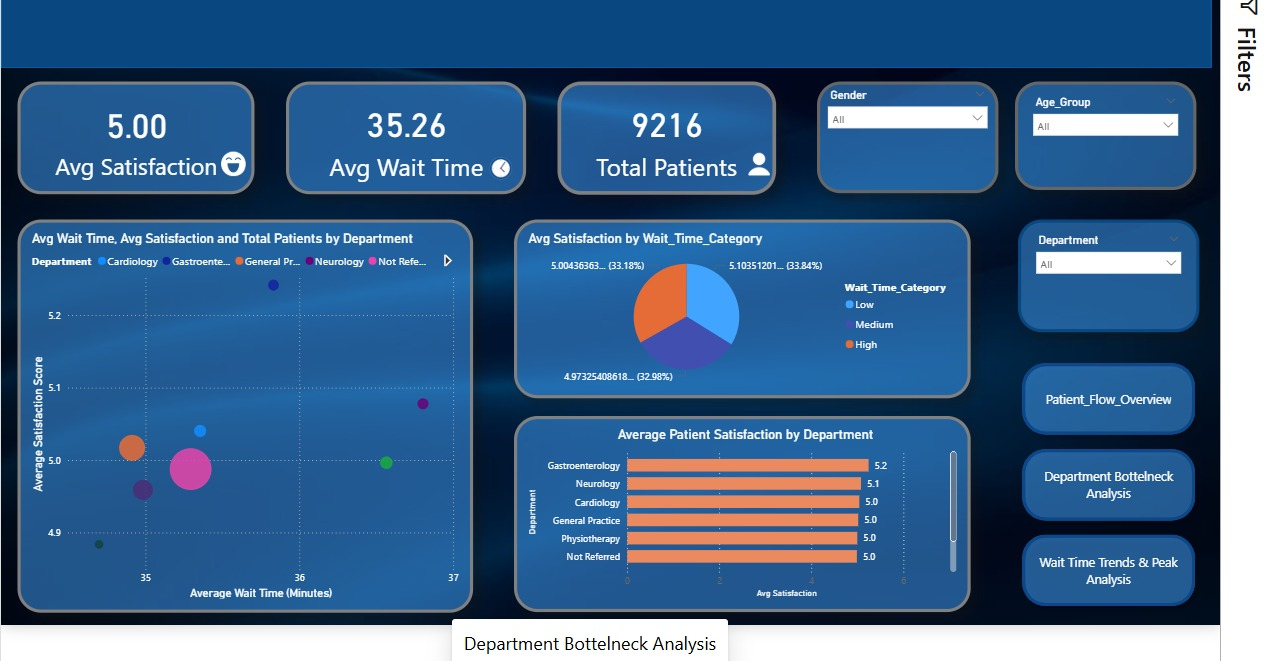

The page's visual inventory and layout, read from the dashboard file:
{"tool":"powerbi","page":{"name":"Patient Satisfaction & Experience Analysis","canvas":[1550,800],"ordinal":3},"visuals":[{"type":"clusteredBarChart","title":"Average Patient Satisfaction by Department","fields":{"Category":["Hospital_Patient_Data.Department"],"Y":["Hospital_Patient_Data.Avg Satisfaction"]},"box":[651.9,534.2,580.7,249.3],"z":0},{"type":"scatterChart","fields":{"Series":["Hospital_Patient_Data.Department"],"Size":["Hospital_Patient_Data.Total Patients"],"X":["Hospital_Patient_Data.Avg Wait Time"],"Y":["Hospital_Patient_Data.Avg Satisfaction"]},"box":[21.7,283.4,579.1,500.1],"z":1000},{"type":"pieChart","fields":{"Category":["Hospital_Patient_Data.Wait_Time_Category"],"Y":["Hospital_Patient_Data.Avg Satisfaction"]},"box":[651.9,283.4,580.7,227.6],"z":2000},{"type":"card","fields":{"Values":["Hospital_Patient_Data.Avg Satisfaction"]},"box":[21,108.2,301.5,143.6],"z":3000},{"type":"card","fields":{"Values":["Hospital_Patient_Data.Avg Wait Time"]},"box":[361.9,108.7,305.6,143.2],"z":4000},{"type":"card","fields":{"Values":["Hospital_Patient_Data.Total Patients"]},"box":[708.1,108.8,278,144.2],"z":5000},{"type":"shape","box":[0,0,1539.4,91.7],"z":6000},{"type":"image","box":[620.3,203.3,31.5,30.2],"z":8000},{"type":"slicer","fields":{"Values":["Hospital_Patient_Data.Age_Group"]},"box":[1289.1,109.6,230.6,138],"z":13000},{"type":"slicer","fields":{"Values":["Hospital_Patient_Data.Gender"]},"box":[1037.7,109.6,230.6,141.8],"z":14000},{"type":"slicer","fields":{"Values":["Hospital_Patient_Data.Department"]},"box":[1292.9,283.5,230.6,143.7],"z":15000},{"type":"pageNavigator","box":[1289.1,457.4,238.2,327],"z":16000},{"type":"image","box":[277.9,196.6,34,34],"z":16001},{"type":"image","box":[939.5,187.1,47.3,43.5],"z":16002}]}

Visuals, with their boxes in screenshot pixels (x1, y1, x2, y2):
"Average Patient Satisfaction by Department" clusteredBarChart: [left=510, top=421, right=979, bottom=623]
scatterChart - Hospital_Patient_Data.Department x Hospital_Patient_Data.Total Patients: [left=1, top=219, right=469, bottom=623]
pieChart - Hospital_Patient_Data.Wait_Time_Category x Hospital_Patient_Data.Avg Satisfaction: [left=510, top=219, right=979, bottom=403]
card - Hospital_Patient_Data.Avg Satisfaction: [left=0, top=77, right=244, bottom=193]
card - Hospital_Patient_Data.Avg Wait Time: [left=276, top=78, right=522, bottom=193]
card - Hospital_Patient_Data.Total Patients: [left=555, top=78, right=780, bottom=194]
shape: [left=0, top=0, right=1226, bottom=64]
image: [left=484, top=154, right=510, bottom=179]
slicer - Hospital_Patient_Data.Age_Group: [left=1024, top=79, right=1210, bottom=190]
slicer - Hospital_Patient_Data.Gender: [left=821, top=79, right=1007, bottom=193]
slicer - Hospital_Patient_Data.Department: [left=1027, top=219, right=1214, bottom=335]
pageNavigator: [left=1024, top=359, right=1217, bottom=623]
image: [left=208, top=149, right=235, bottom=176]
image: [left=742, top=141, right=780, bottom=176]
